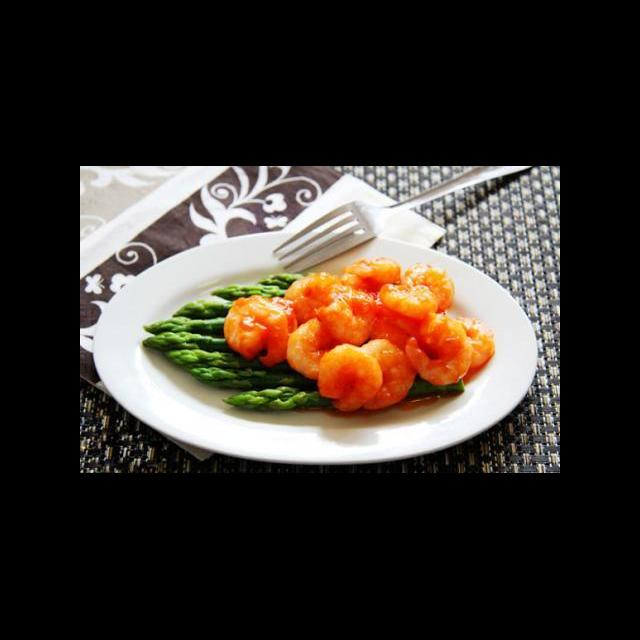tom: (220, 292, 303, 369), (402, 312, 474, 389), (351, 337, 420, 412), (314, 342, 384, 414), (283, 316, 350, 382), (426, 311, 496, 374), (311, 290, 386, 348), (281, 270, 349, 326), (395, 258, 458, 316), (374, 278, 441, 326), (334, 252, 406, 296)
